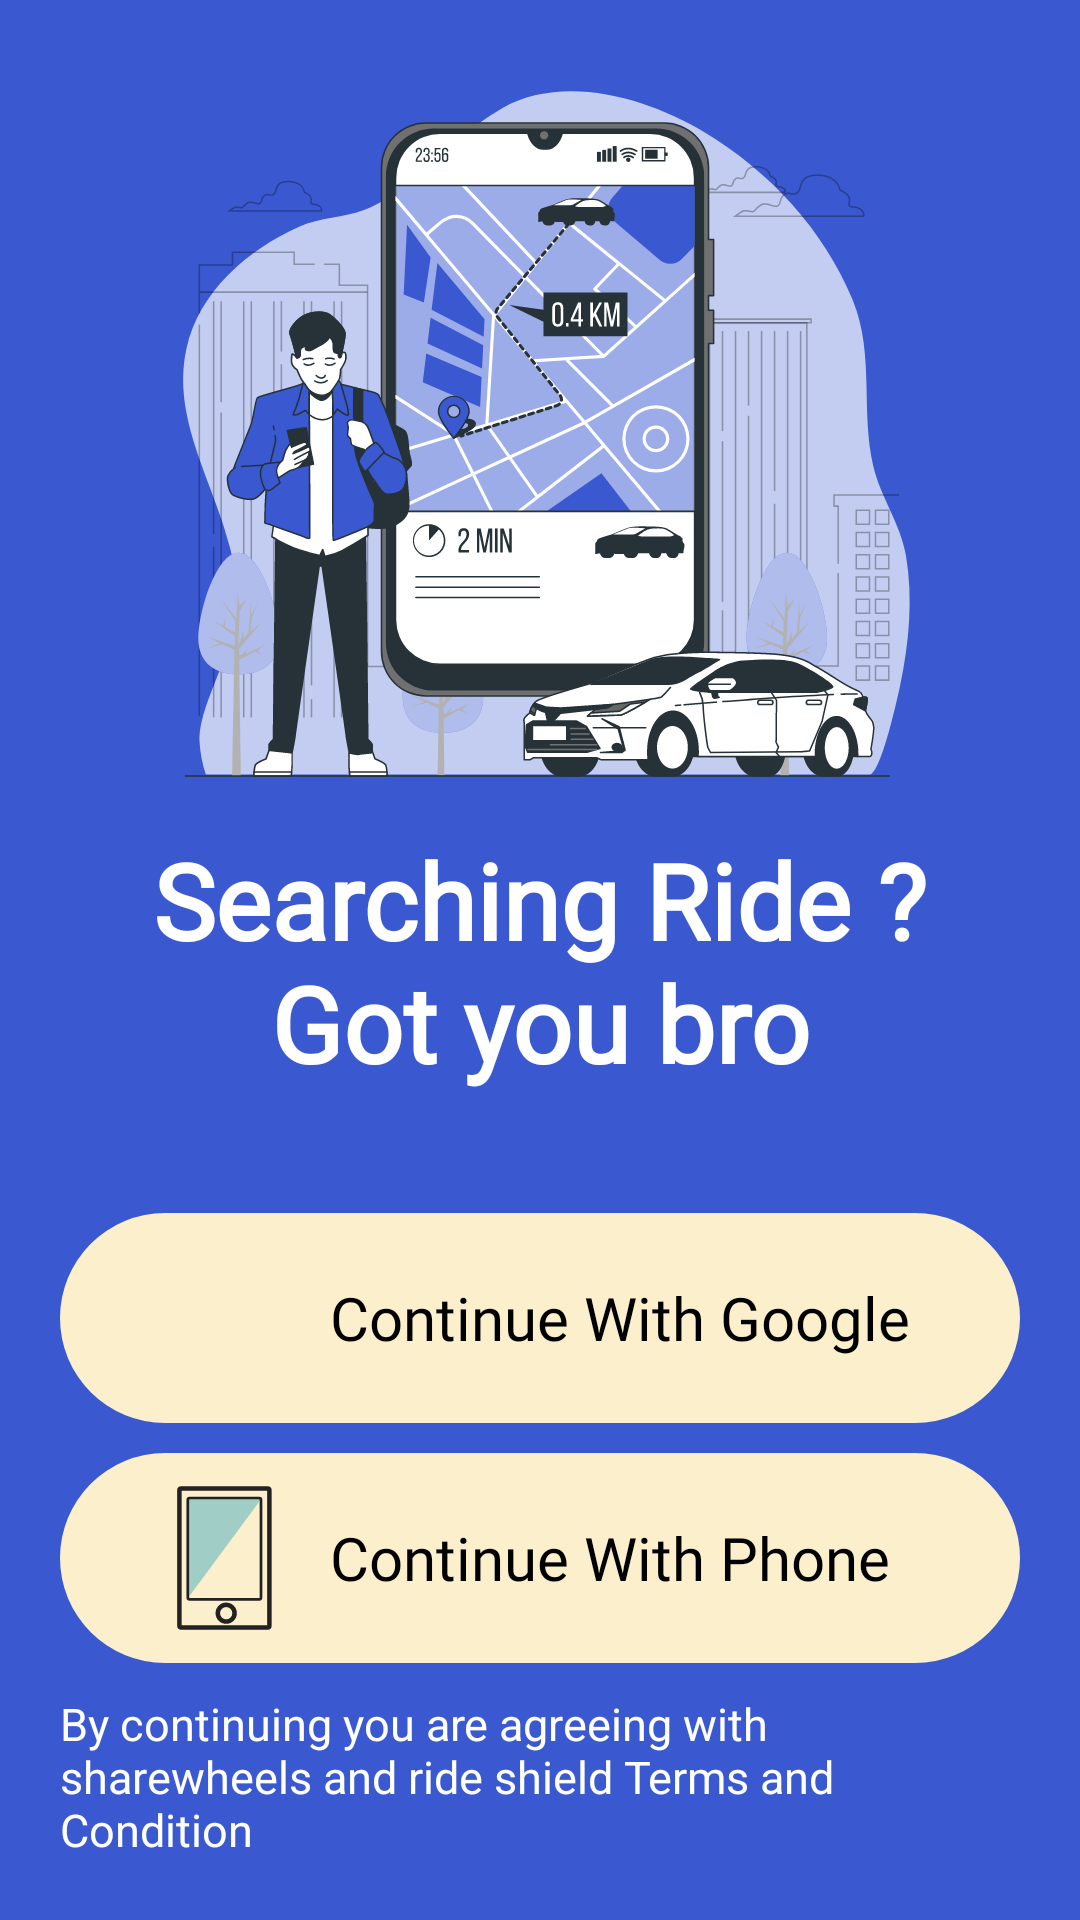

Where to tap for icons on this 1080w x 1920h app screen, as (x,y):
mobile: (224,1558)
